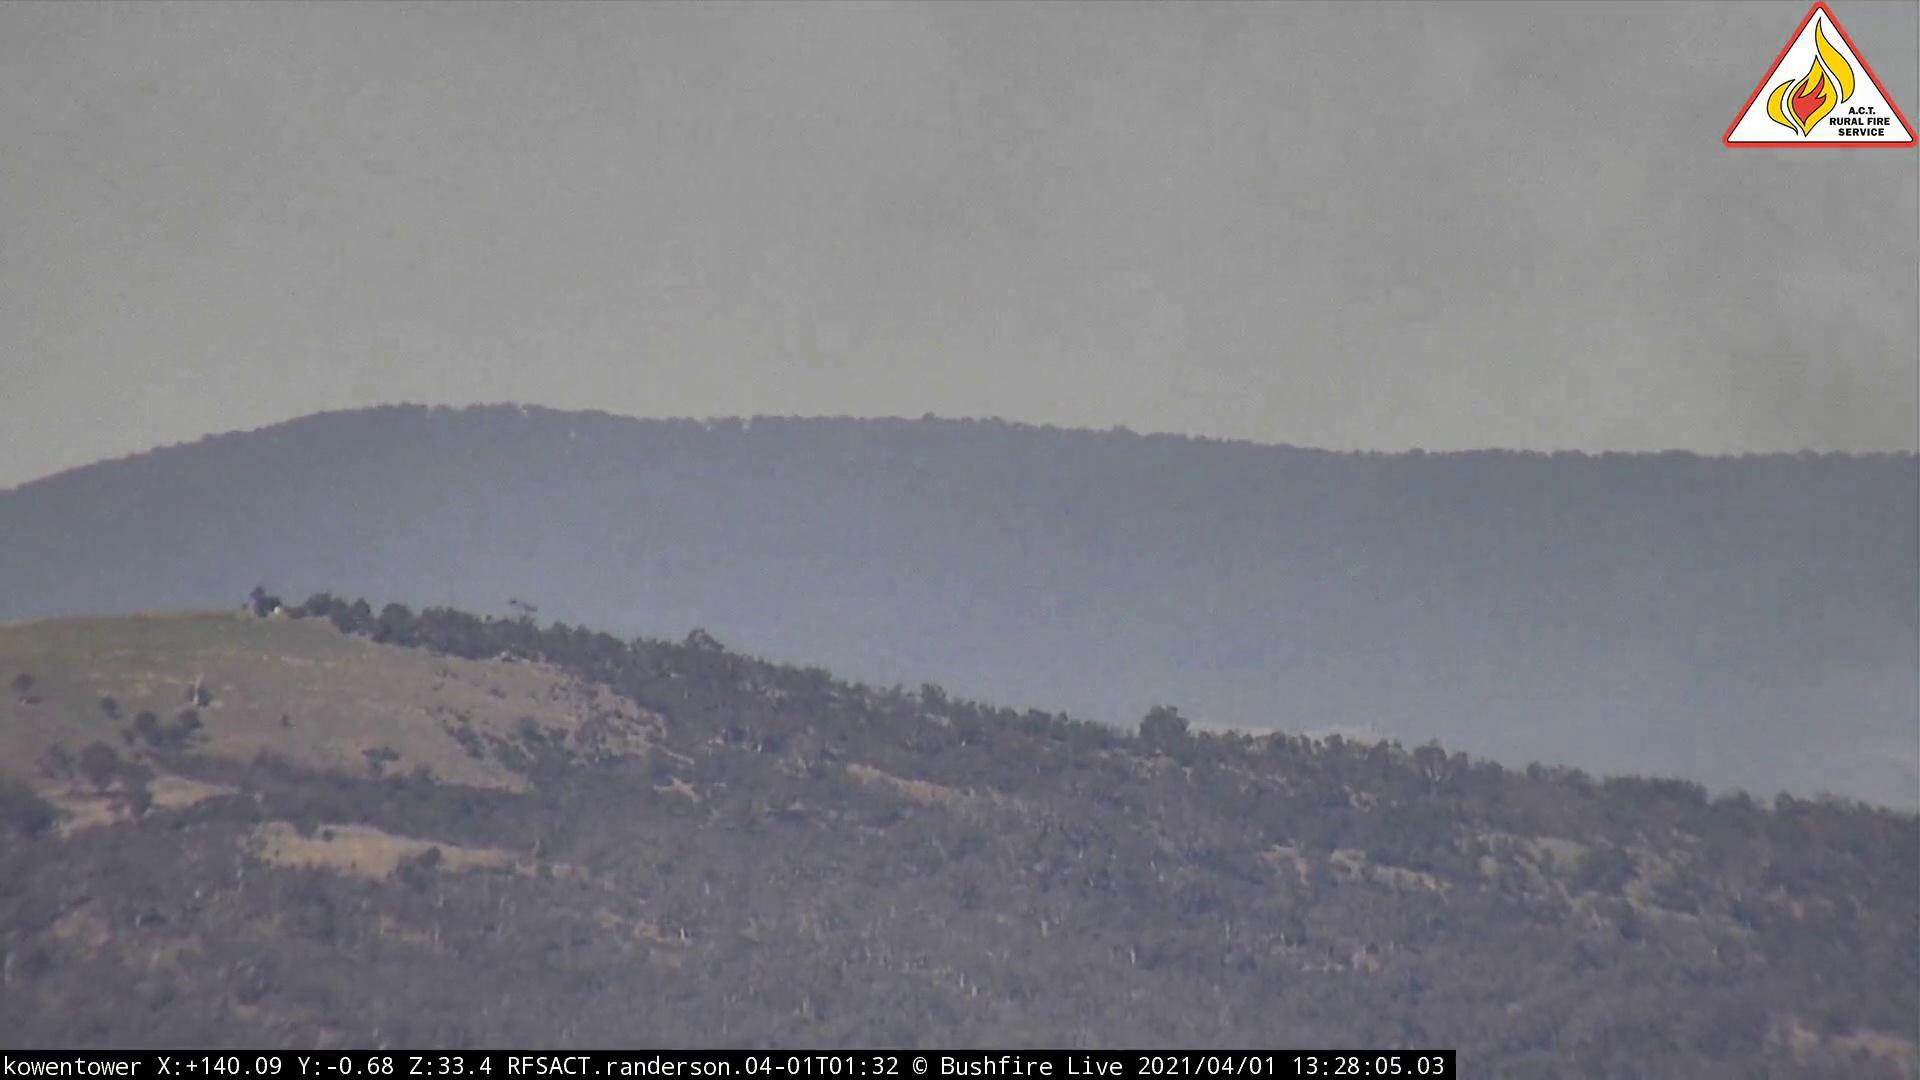Smoke: (1542, 185, 1920, 688)
